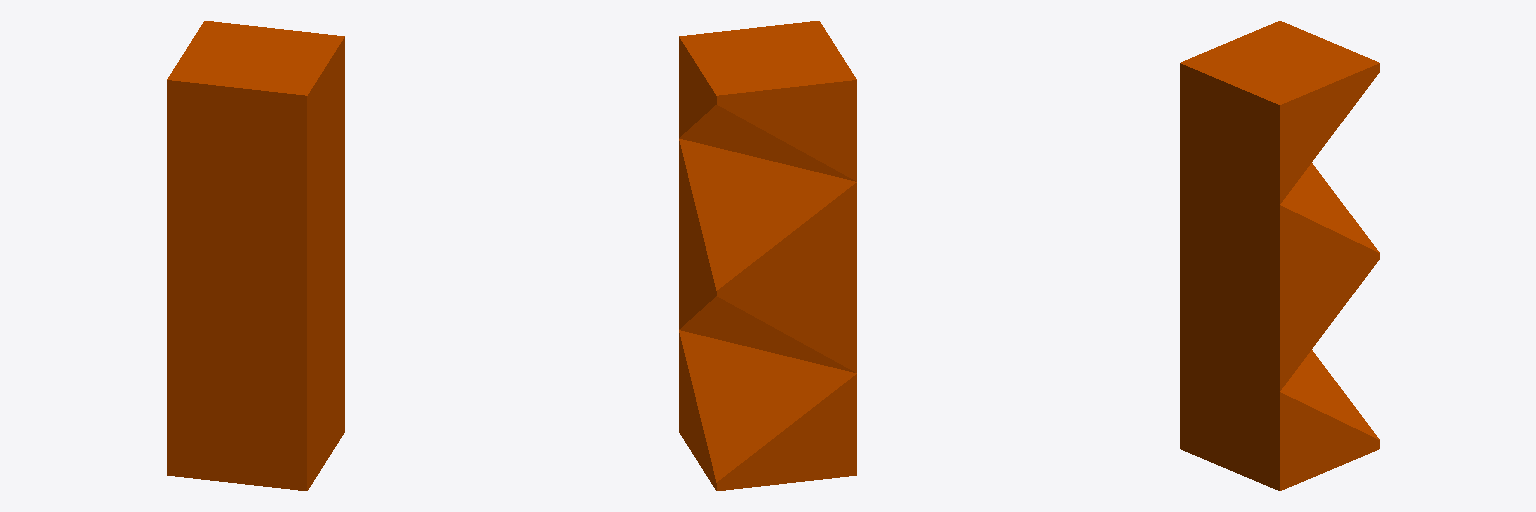
URDF robot description (obj_1):
<robot name="obj_1" version="1.0">
  <link name="link_1">
    <collision name="1-collision.001">
      <origin rpy="0.00000 0.00000 -0.78557" xyz="-0.37777 0.26478 0.06476"/>
      <geometry>
        <mesh filename="../meshes/obj/1-collision.001.obj" scale="1.00000 1.00000 1.00000"/>
      </geometry>
    </collision>
    <collision name="1-collision.002">
      <origin rpy="0.00000 0.00000 -0.78557" xyz="-0.35853 0.26472 0.38645"/>
      <geometry>
        <mesh filename="../meshes/obj/1-collision.002.obj" scale="1.00000 1.00000 1.00000"/>
      </geometry>
    </collision>
    <collision name="1-collision.003">
      <origin rpy="0.00000 0.00000 -0.78557" xyz="-0.36059 0.25717 0.23357"/>
      <geometry>
        <mesh filename="../meshes/obj/1-collision.003.obj" scale="1.00000 1.00000 1.00000"/>
      </geometry>
    </collision>
    <inertial>
      <inertia ixx="0.00019" ixy="-0.00001" ixz="0.00000" iyy="0.00019" iyz="0.00000" izz="0.00005"/>
      <origin rpy="0.00000 0.00000 0.00000" xyz="-0.36816 0.25483 0.22565"/>
      <mass value="0.01000"/>
    </inertial>
    <visual name="1">
      <material name="turnarrow_orange"/>
      <origin rpy="-0.78557 -1.57080 0.00000" xyz="-0.37004 0.29969 0.23752"/>
      <geometry>
        <mesh filename="../meshes/obj/6 part puzzle cube.obj" scale="0.00500 0.00500 0.00500"/>
      </geometry>
    </visual>
  </link>
  <material name="turnarrow_orange">
    <color rgba="0.78824 0.34510 0.00000 1.00000"/>
  </material>
</robot>

--- What the picture shows (computed from the rendered views, not written in the file) ---
Views: 3 orthographic renders of the robot side by side, from view 1: azimuth 30°, elevation 25°; view 2: azimuth 150°, elevation 25°; view 3: azimuth 270°, elevation 25°.
Model obj_1 with 1 links and 0 joints (none), rooted at link_1, posed every joint at zero.
Visible links, largest first — view 1: link_1; view 2: link_1; view 3: link_1.
Boxes of the visible links, bbox=[...] form: link_1: bbox=[167, 21, 344, 490]; link_1: bbox=[679, 21, 856, 490]; link_1: bbox=[1180, 21, 1379, 490].
Bounding box of the posed robot: 0.2121 × 0.2121 × 0.45 m (x, y, z).
Meshes: 1 distinct files referenced, 1 mesh visuals loaded (1 OBJ).